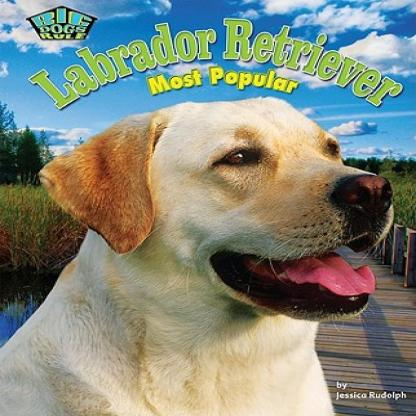Labarador Retriever: (1, 89, 403, 416)
